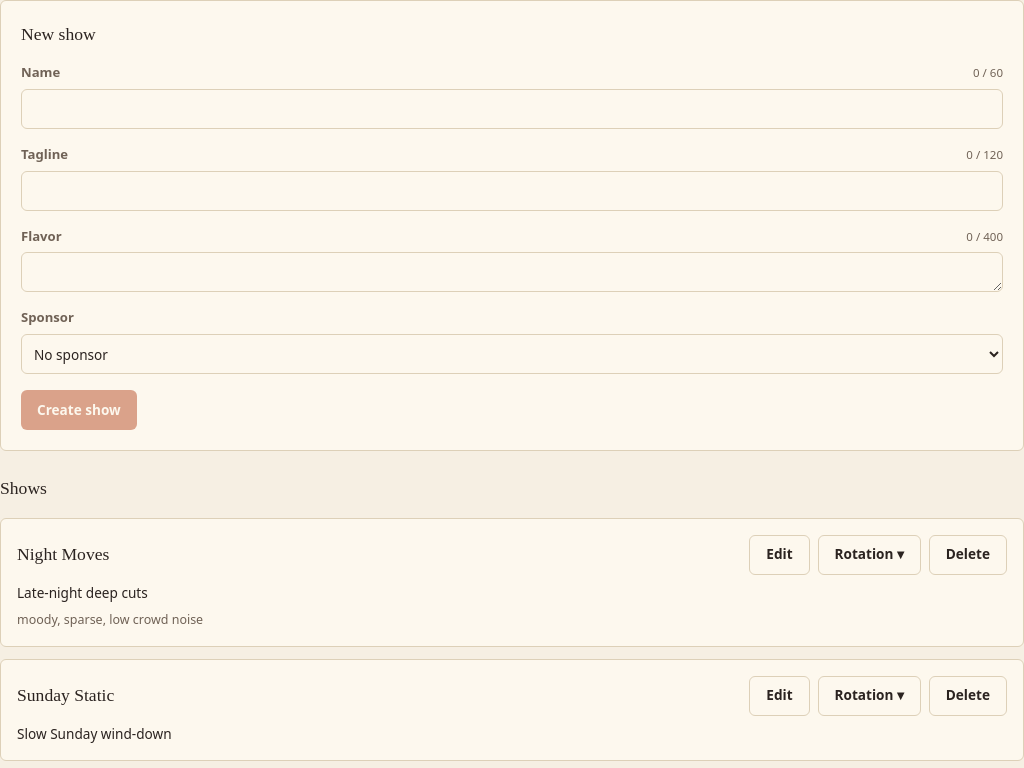
Test: Feature: The Shows page › Scenario: guarded delete UX › deletes an unreferenced show after confirm
Step 1. Click the button with aria-label "Delete Sunday Static" → (968, 696), box [929,676,1007,716]
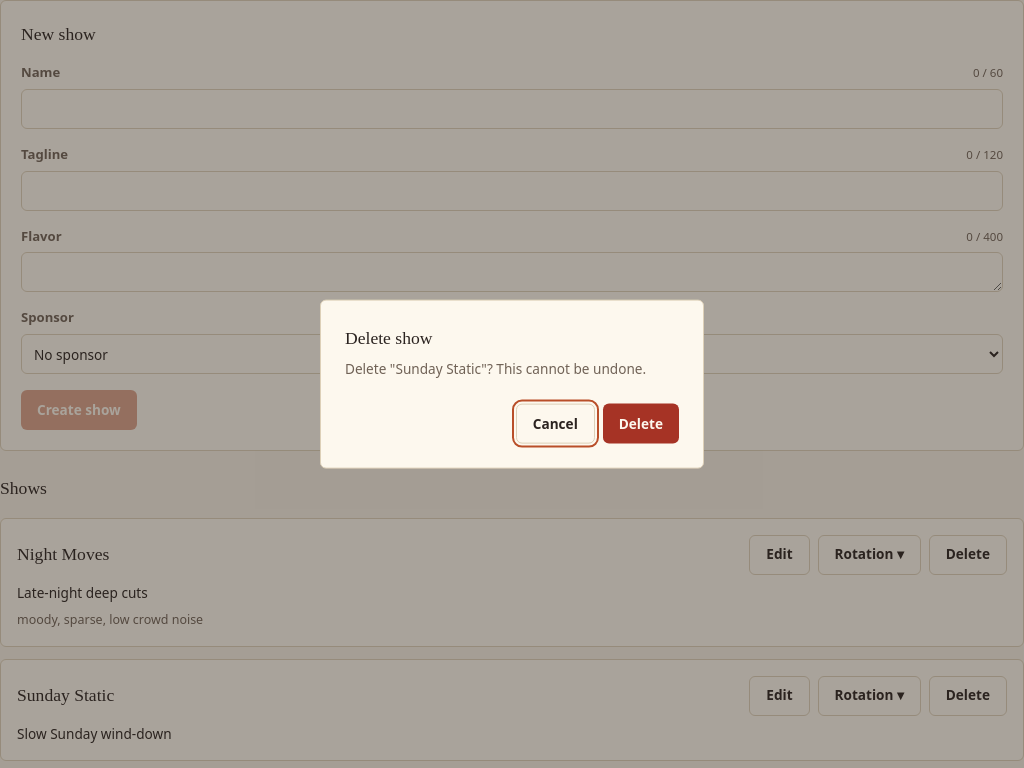
Step 2. Click the button "Delete" → (641, 423), box [603,403,679,443]
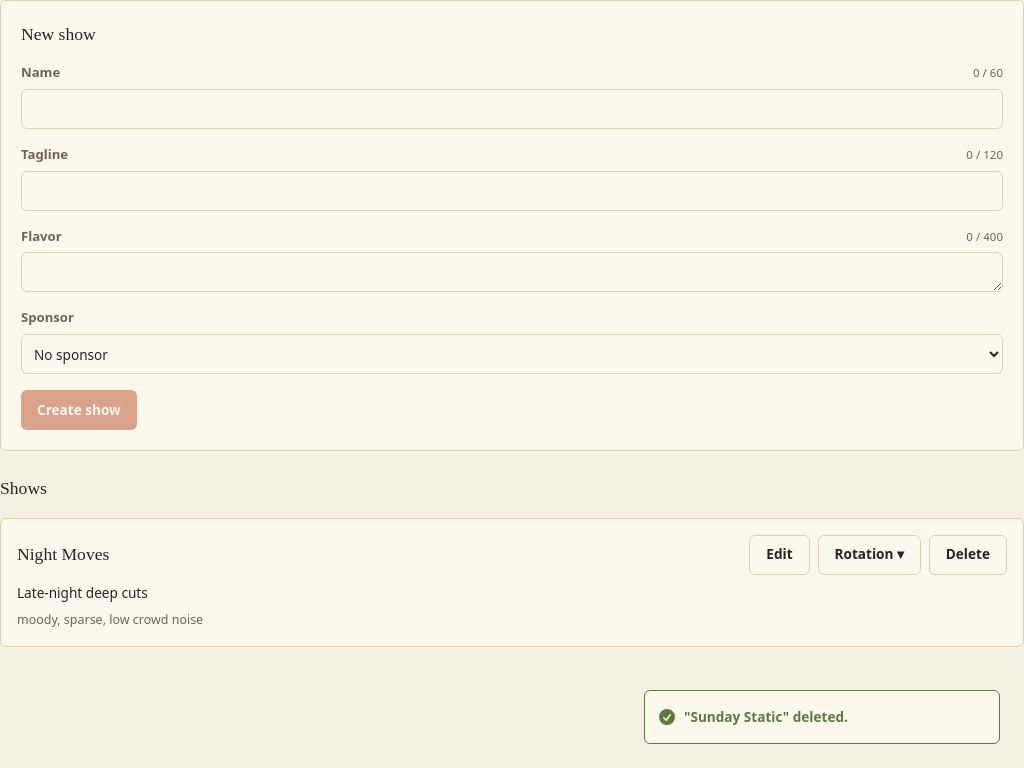
Now the text "\"Sunday Static\" deleted." is shown, box [684,707,848,727]
